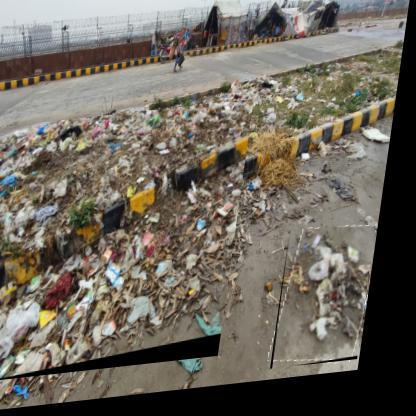Garbage: (1, 106, 260, 388), (283, 233, 386, 378)
